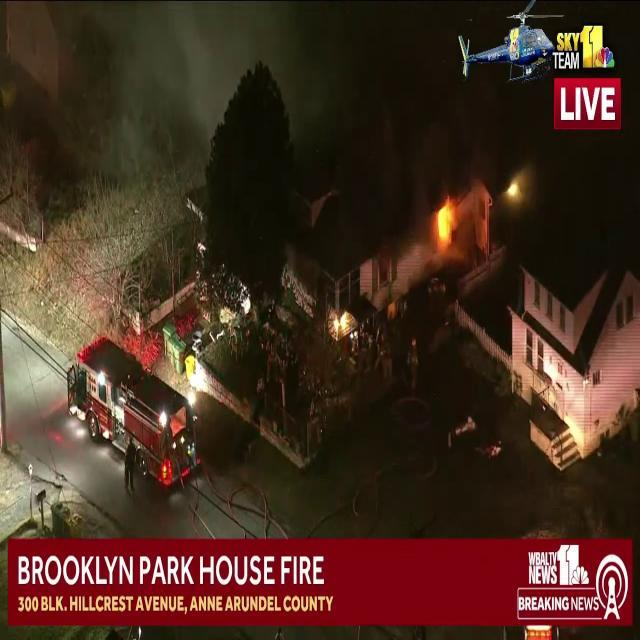Fire: (434, 190, 462, 250)
Smoke: (57, 0, 323, 162)
